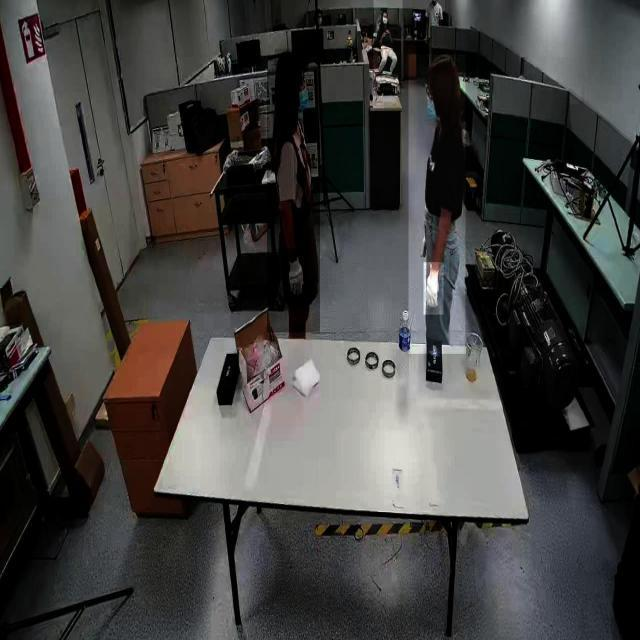gloves: (284, 248, 308, 303), (424, 262, 444, 316)
